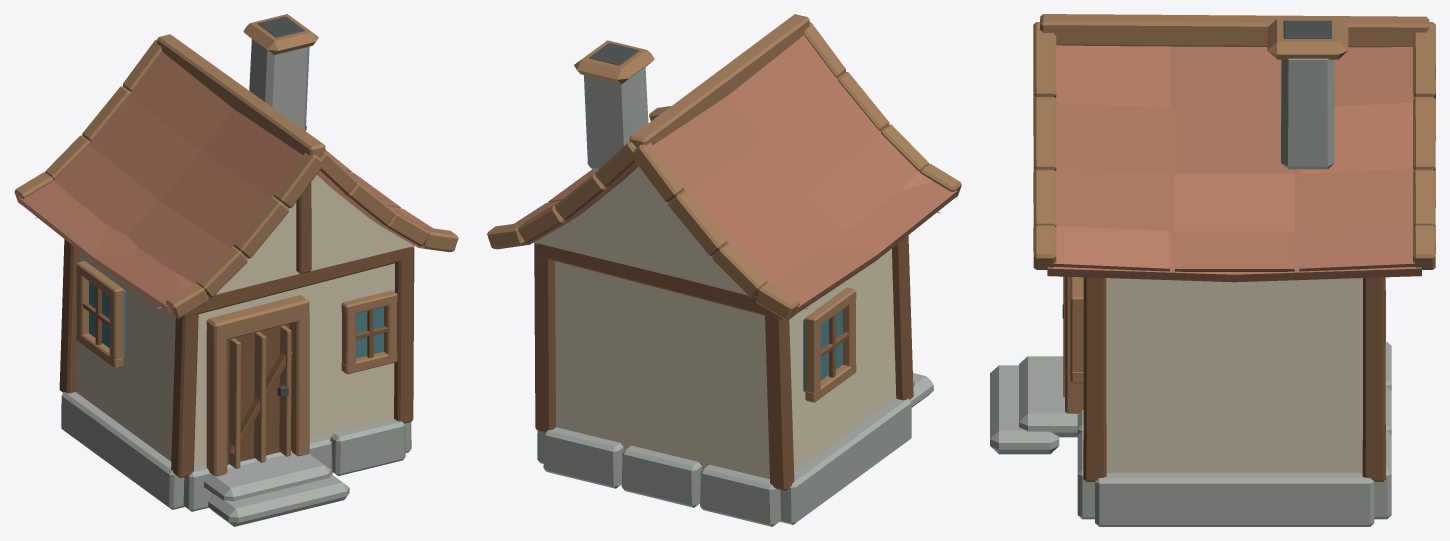
Rendered from WallRush_Village_Cottage_A.glb.
3 renders of one model, left to right at view 1: azimuth 30°, elevation 25°; view 2: azimuth 150°, elevation 25°; view 3: azimuth 270°, elevation 25°, orthographic. The views are drawn at different scales.
Visible parts, largest first — view 1: Village_Cottage_A_Village_RoofTerracotta, Village_Cottage_A_Village_TimberEdges, Village_Cottage_A_Village_WarmPlaster, Village_Cottage_A_Village_PaleStone, Village_Cottage_A_Village_Timber, Village_Cottage_A_Village_WindowTeal, Village_Cottage_A_Village_Iron; view 2: Village_Cottage_A_Village_WarmPlaster, Village_Cottage_A_Village_RoofTerracotta, Village_Cottage_A_Village_PaleStone, Village_Cottage_A_Village_TimberEdges, Village_Cottage_A_Village_Timber, Village_Cottage_A_Village_WindowTeal, Village_Cottage_A_Village_Iron; view 3: Village_Cottage_A_Village_RoofTerracotta, Village_Cottage_A_Village_WarmPlaster, Village_Cottage_A_Village_PaleStone, Village_Cottage_A_Village_TimberEdges, Village_Cottage_A_Village_RoofTerracotta_Sunward, Village_Cottage_A_Village_Timber, Village_Cottage_A_Village_Iron.
Part boxes in pixels (left/top/right/bottom): Village_Cottage_A_Village_RoofTerracotta: left=19, top=52, right=449, bottom=312; Village_Cottage_A_Village_TimberEdges: left=14, top=14, right=458, bottom=476; Village_Cottage_A_Village_WarmPlaster: left=34, top=175, right=414, bottom=467; Village_Cottage_A_Village_PaleStone: left=61, top=39, right=411, bottom=526; Village_Cottage_A_Village_Timber: left=59, top=182, right=414, bottom=477; Village_Cottage_A_Village_WindowTeal: left=89, top=281, right=383, bottom=358; Village_Cottage_A_Village_Iron: left=257, top=16, right=304, bottom=397; Village_Cottage_A_Village_WarmPlaster: left=534, top=166, right=940, bottom=479; Village_Cottage_A_Village_RoofTerracotta: left=496, top=35, right=957, bottom=314; Village_Cottage_A_Village_PaleStone: left=537, top=67, right=933, bottom=526; Village_Cottage_A_Village_TimberEdges: left=487, top=14, right=961, bottom=402; Village_Cottage_A_Village_Timber: left=534, top=235, right=913, bottom=490; Village_Cottage_A_Village_WindowTeal: left=803, top=309, right=842, bottom=391; Village_Cottage_A_Village_Iron: left=589, top=43, right=639, bottom=65; Village_Cottage_A_Village_RoofTerracotta: left=1047, top=46, right=1421, bottom=282; Village_Cottage_A_Village_WarmPlaster: left=1106, top=278, right=1362, bottom=472; Village_Cottage_A_Village_PaleStone: left=990, top=58, right=1391, bottom=526; Village_Cottage_A_Village_TimberEdges: left=1033, top=14, right=1435, bottom=413; Village_Cottage_A_Village_RoofTerracotta_Sunward: left=1053, top=45, right=1412, bottom=271; Village_Cottage_A_Village_Timber: left=1083, top=277, right=1385, bottom=481; Village_Cottage_A_Village_Iron: left=1062, top=20, right=1331, bottom=318.
Size of the model in its own units: 2.15 by 2.7 by 2.31.
